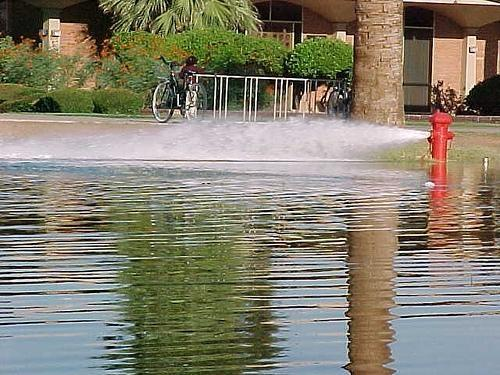bicycle: (151, 54, 208, 125), (325, 67, 351, 119)
